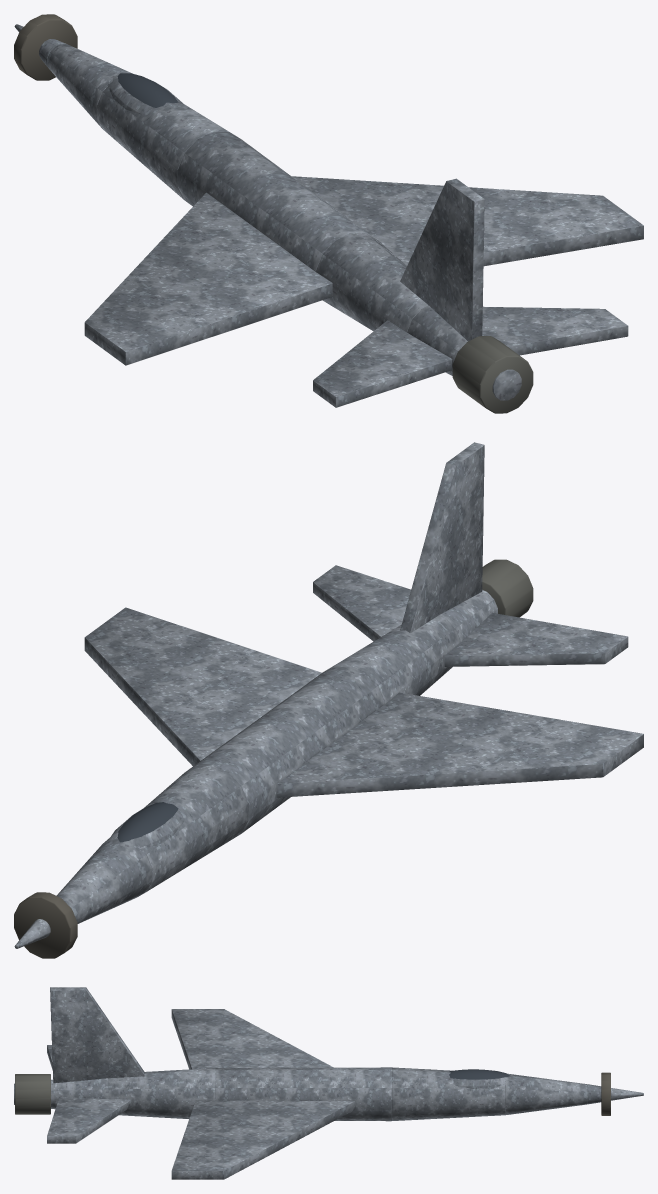
File: air_e1_us_interceptor_LOD0.glb
3 views of the same model, one above another, from view 1: azimuth 30°, elevation 25°; view 2: azimuth 150°, elevation 25°; view 3: azimuth 270°, elevation 25° (orthographic). The views are drawn at different scales.
Parts seen in each view (by area): view 1: air_e1_us_interceptor_LOD0_body, air_e1_us_interceptor_LOD0_gun, air_e1_us_interceptor_LOD0_deck, air_e1_us_interceptor_LOD0_glass; view 2: air_e1_us_interceptor_LOD0_body, air_e1_us_interceptor_LOD0_deck, air_e1_us_interceptor_LOD0_gun, air_e1_us_interceptor_LOD0_glass; view 3: air_e1_us_interceptor_LOD0_body, air_e1_us_interceptor_LOD0_gun, air_e1_us_interceptor_LOD0_glass, air_e1_us_interceptor_LOD0_deck.
Part boxes in pixels (x1,y1,x2,y2): air_e1_us_interceptor_LOD0_body: (14, 24, 643, 407); air_e1_us_interceptor_LOD0_gun: (452, 336, 533, 413); air_e1_us_interceptor_LOD0_deck: (14, 14, 77, 80); air_e1_us_interceptor_LOD0_glass: (117, 73, 178, 107); air_e1_us_interceptor_LOD0_body: (14, 442, 643, 948); air_e1_us_interceptor_LOD0_deck: (14, 892, 77, 958); air_e1_us_interceptor_LOD0_gun: (482, 559, 533, 617); air_e1_us_interceptor_LOD0_glass: (117, 802, 178, 842); air_e1_us_interceptor_LOD0_body: (14, 987, 643, 1179); air_e1_us_interceptor_LOD0_gun: (15, 1074, 50, 1114); air_e1_us_interceptor_LOD0_glass: (449, 1069, 510, 1079); air_e1_us_interceptor_LOD0_deck: (601, 1072, 610, 1115).
Bounding box in the file's own units: 11.7 × 4.37 × 19.2.
Materials: 4 (1 with a texture image).
